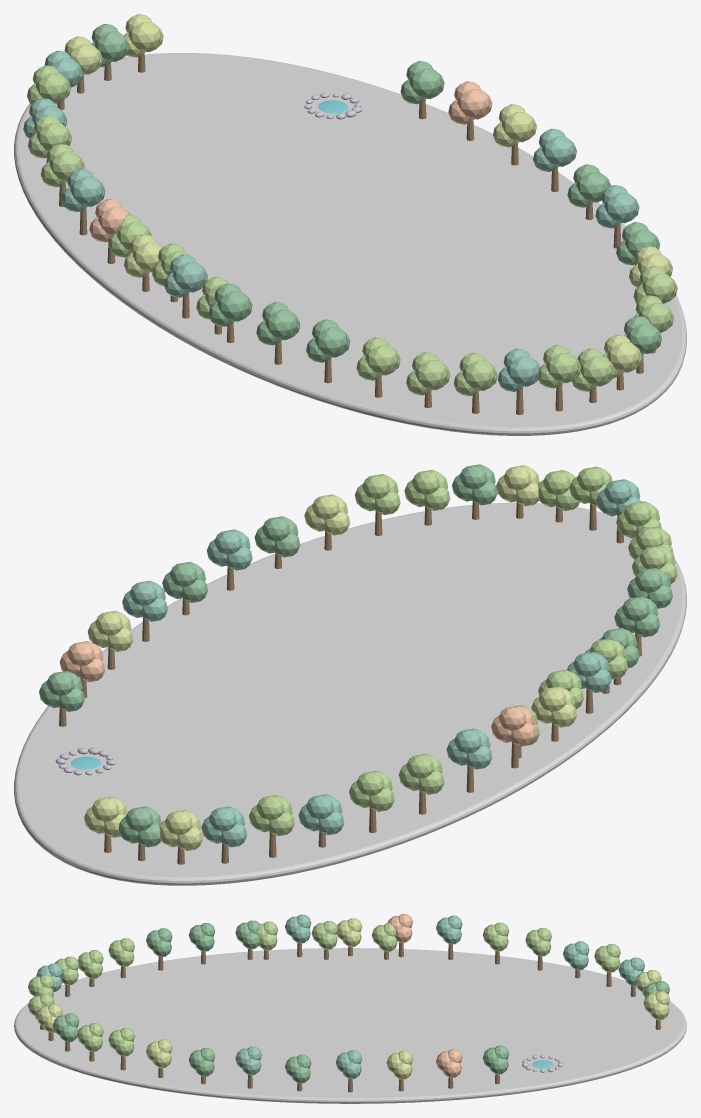
The model's file is diary-village-v2.glb.
3 renders of one model, top to bottom at view 1: azimuth 30°, elevation 25°; view 2: azimuth 150°, elevation 25°; view 3: azimuth 270°, elevation 25°, orthographic. The views are drawn at different scales.
Parts seen in each view (by area): view 1: V2 Flat Meadow 30 x 56, V2 Tree 18, V2 Tree 24, V2 Tree 29, V2 Tree 01, V2 Tree 21, V2 Tree 28, V2 Tree 23, V2 Tree 02, V2 Tree 37, V2 Tree 27, V2 Tree 25 (+25 smaller); view 2: V2 Flat Meadow 30 x 56, V2 Tree 18, V2 Tree 14, V2 Tree 19, V2 Tree 16, V2 Tree 01, V2 Tree 34, V2 Tree 17, V2 Tree 37, V2 Tree 02, V2 Tree 13, V2 Tree 04 (+24 smaller); view 3: V2 Flat Meadow 30 x 56, V2 Tree 18, V2 Tree 14, V2 Tree 37, V2 Tree 21, V2 Tree 16, V2 Tree 24, V2 Tree 34, V2 Tree 17, V2 Tree 01, V2 Tree 23, V2 Tree 25 (+24 smaller).
Boxes of the visible parts, bbox=[...] form: V2 Flat Meadow 30 x 56: bbox=[14, 53, 686, 435]; V2 Tree 18: bbox=[61, 168, 105, 235]; V2 Tree 24: bbox=[306, 319, 350, 383]; V2 Tree 29: bbox=[538, 345, 581, 411]; V2 Tree 01: bbox=[533, 128, 576, 191]; V2 Tree 21: bbox=[164, 254, 207, 318]; V2 Tree 28: bbox=[497, 348, 540, 414]; V2 Tree 23: bbox=[256, 302, 300, 364]; V2 Tree 02: bbox=[493, 104, 536, 165]; V2 Tree 37: bbox=[595, 185, 639, 248]; V2 Tree 27: bbox=[453, 352, 497, 413]; V2 Tree 25: bbox=[356, 337, 400, 397]; V2 Flat Meadow 30 x 56: bbox=[14, 502, 686, 885]; V2 Tree 18: bbox=[446, 728, 492, 792]; V2 Tree 14: bbox=[249, 795, 294, 857]; V2 Tree 19: bbox=[491, 705, 536, 768]; V2 Tree 16: bbox=[349, 770, 394, 832]; V2 Tree 01: bbox=[122, 580, 167, 641]; V2 Tree 34: bbox=[355, 474, 400, 535]; V2 Tree 17: bbox=[398, 753, 444, 814]; V2 Tree 37: bbox=[207, 529, 252, 590]; V2 Tree 02: bbox=[87, 610, 133, 669]; V2 Tree 13: bbox=[201, 806, 247, 863]; V2 Tree 04: bbox=[39, 671, 84, 726]; V2 Flat Meadow 30 x 56: bbox=[14, 948, 686, 1103]; V2 Tree 18: bbox=[436, 915, 462, 959]; V2 Tree 14: bbox=[594, 944, 620, 986]; V2 Tree 37: bbox=[235, 1046, 261, 1088]; V2 Tree 21: bbox=[285, 914, 311, 957]; V2 Tree 16: bbox=[525, 928, 551, 970]; V2 Tree 24: bbox=[146, 928, 172, 970]; V2 Tree 34: bbox=[108, 1028, 134, 1070]; V2 Tree 17: bbox=[483, 922, 509, 964]; V2 Tree 01: bbox=[335, 1050, 361, 1092]; V2 Tree 23: bbox=[188, 923, 215, 964]; V2 Tree 25: bbox=[108, 938, 134, 978].
Size of what is drawn, in the model's own units: 30 by 4.41 by 56.
